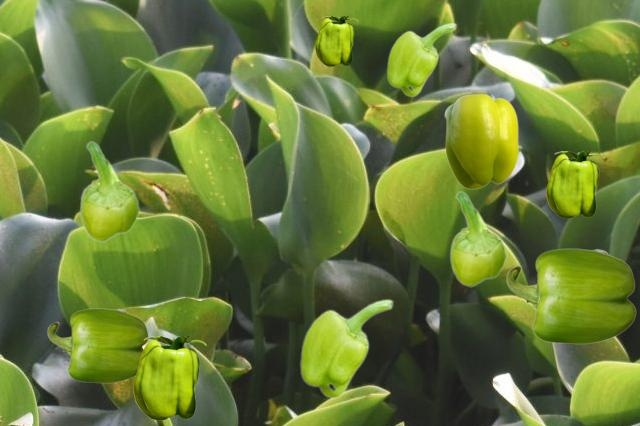bell_pepper: (506, 248, 635, 343), (299, 298, 393, 398), (47, 308, 148, 382), (444, 93, 517, 188), (79, 141, 139, 241), (133, 336, 205, 419), (449, 191, 506, 286), (386, 22, 456, 96), (546, 151, 603, 217), (315, 16, 357, 65)
